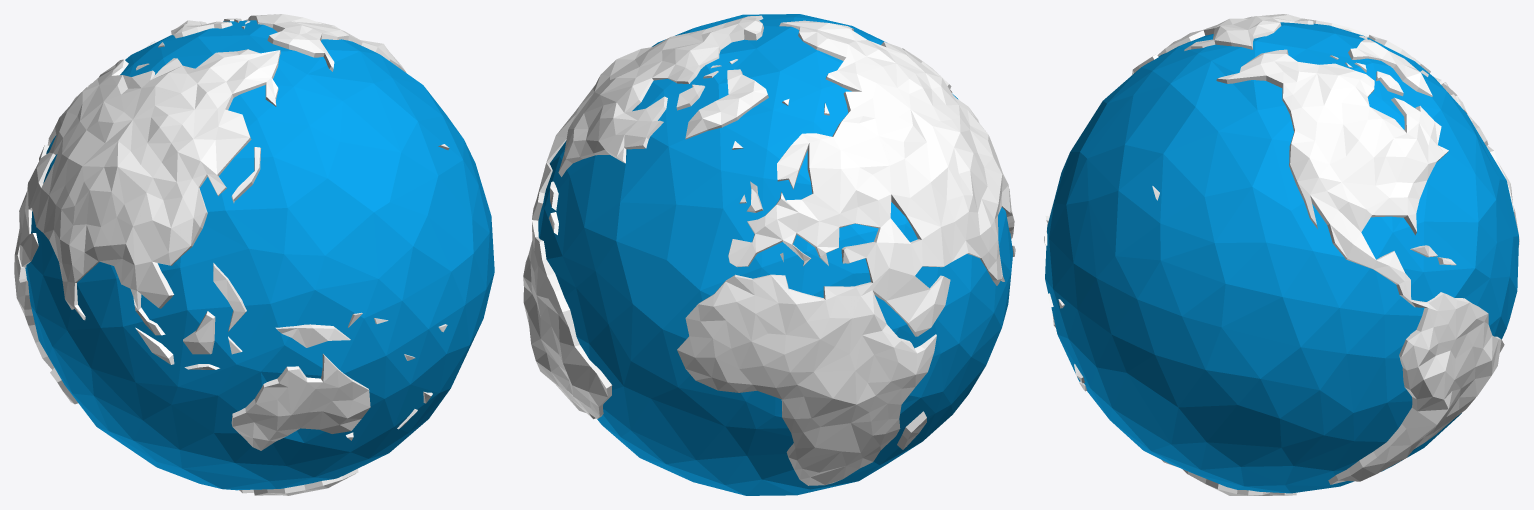
Rendered from joder.glb.
3 renders of one model, left to right at view 1: azimuth 30°, elevation 25°; view 2: azimuth 150°, elevation 25°; view 3: azimuth 270°, elevation 25°, orthographic. The views are drawn at different scales.
Visible parts, largest first — view 1: Earth_Water, Earth_Ground; view 2: Earth_Ground, Earth_Water; view 3: Earth_Water, Earth_Ground.
Part boxes in pixels (<box>): Earth_Water: <box>25,20,494,490</box>; Earth_Ground: <box>14,14,449,495</box>; Earth_Ground: <box>523,15,1015,485</box>; Earth_Water: <box>538,14,1013,495</box>; Earth_Water: <box>1045,22,1518,493</box>; Earth_Ground: <box>1044,14,1519,495</box>.
Bounding box in the file's own units: 0.7356 × 0.7459 × 0.7356.
